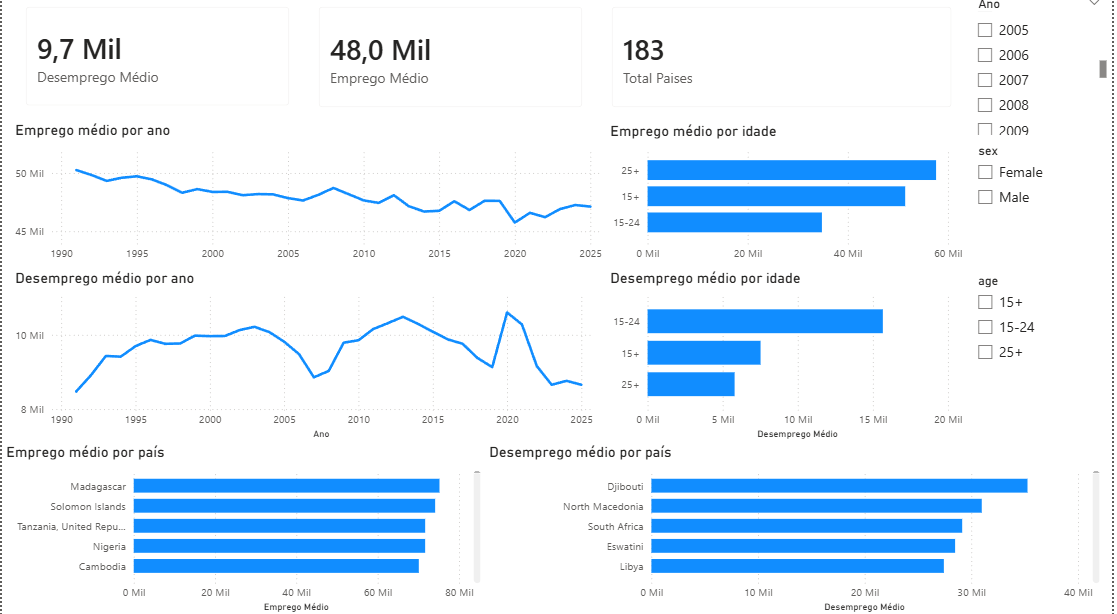

What the dashboard file says about the page in this screenshot:
{"tool":"powerbi","page":{"name":"Página 1","canvas":[1280,720],"ordinal":0},"visuals":[{"type":"cardVisual","fields":{"Data":["Calendario.Desemprego Medio"]},"box":[10.4,0,338.1,148.8],"z":0},{"type":"cardVisual","fields":{"Data":["Calendario.Emprego Medio"]},"box":[348.5,0,338.1,150],"z":1000},{"type":"cardVisual","fields":{"Data":["Calendario.Total Paises"]},"box":[686.5,0,426.9,150],"z":2000},{"type":"lineChart","title":"Desemprego médio por ano","fields":{"Category":["TabelaAno.Ano"],"Y":["Calendario.Desemprego Medio"]},"box":[10.4,319.6,676.2,200.8],"z":3000},{"type":"barChart","title":"Desemprego médio por país","fields":{"Category":["disoccupazione.country"],"Y":["Calendario.Desemprego Medio"]},"box":[557.3,520.4,714.2,199.6],"z":4000},{"type":"barChart","title":"Desemprego médio por idade","fields":{"Category":["disoccupazione.age"],"Y":["Calendario.Desemprego Medio"]},"box":[696.9,319.6,416.5,200.8],"z":5000},{"type":"lineChart","title":"Emprego médio por ano","fields":{"Category":["TabelaAno.Ano"],"Y":["Calendario.Emprego Medio"]},"box":[10.4,148.8,686.5,170.8],"z":6000},{"type":"barChart","title":"Emprego médio por país","fields":{"Category":["occupazione.country"],"Y":["Calendario.Emprego Medio"]},"box":[0,520.4,557.3,199.6],"z":7000},{"type":"barChart","title":"Emprego médio por idade","fields":{"Y":["Calendario.Emprego Medio"],"Category":["occupazione.age"]},"box":[696.9,150,416.5,169.6],"z":8000},{"type":"slicer","fields":{"Values":["TabelaAno.Ano"]},"box":[1113.5,0,166.2,169.6],"z":9000},{"type":"slicer","fields":{"Values":["occupazione.sex"]},"box":[1113.5,169.6,166.2,150],"z":10000},{"type":"slicer","fields":{"Values":["occupazione.age"]},"box":[1113.5,319.6,166.2,150],"z":11000}]}

Visuals, with their boxes in screenshot pixels (x1, y1, x2, y2), scaled from the page's 1280x720 canvas onto the 1117x614 screenshot:
cardVisual - Calendario.Desemprego Medio: left=9, top=0, right=304, bottom=127
cardVisual - Calendario.Emprego Medio: left=304, top=0, right=599, bottom=128
cardVisual - Calendario.Total Paises: left=599, top=0, right=972, bottom=128
"Desemprego médio por ano" lineChart: left=9, top=273, right=599, bottom=444
"Desemprego médio por país" barChart: left=486, top=444, right=1110, bottom=613
"Desemprego médio por idade" barChart: left=608, top=273, right=972, bottom=444
"Emprego médio por ano" lineChart: left=9, top=127, right=608, bottom=273
"Emprego médio por país" barChart: left=0, top=444, right=486, bottom=613
"Emprego médio por idade" barChart: left=608, top=128, right=972, bottom=273
slicer - TabelaAno.Ano: left=972, top=0, right=1116, bottom=145
slicer - occupazione.sex: left=972, top=145, right=1116, bottom=273
slicer - occupazione.age: left=972, top=273, right=1116, bottom=400
